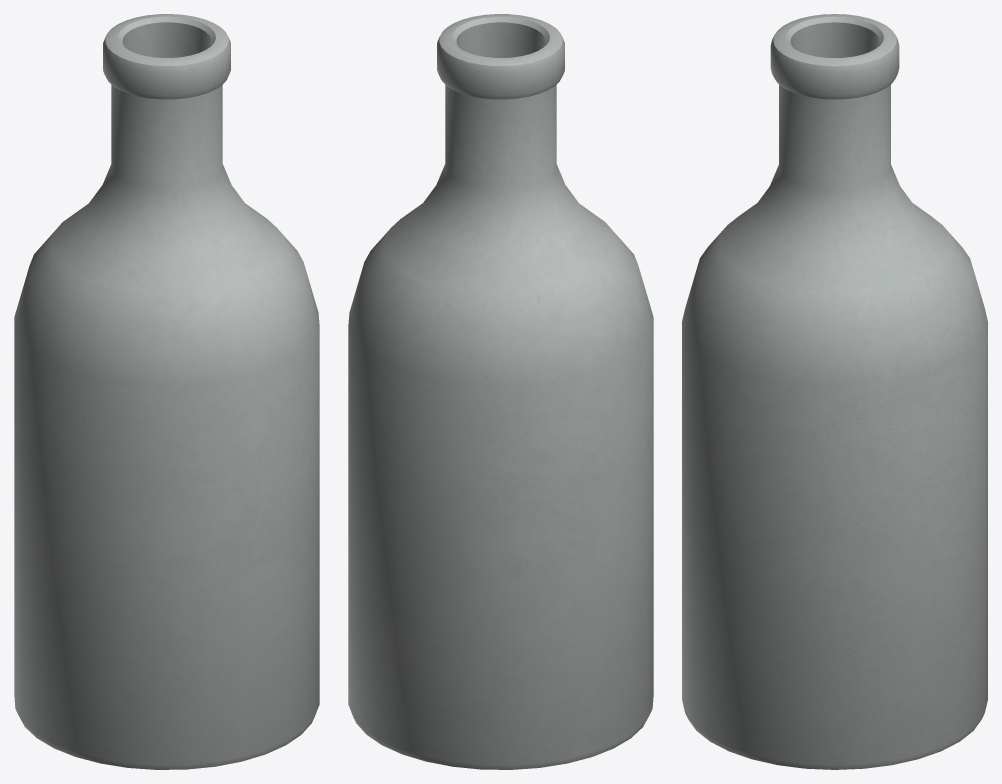
File: CeramicBottle2.fbx
3 views of the same model, side by side, from view 1: azimuth 30°, elevation 25°; view 2: azimuth 150°, elevation 25°; view 3: azimuth 270°, elevation 25° (orthographic).
Visible parts, largest first — view 1: Cylinder; view 2: Cylinder; view 3: Cylinder.
Boxes of the visible parts, left/top/right/bottom form: Cylinder: left=14, top=14, right=319, bottom=769; Cylinder: left=348, top=14, right=653, bottom=769; Cylinder: left=682, top=14, right=987, bottom=769.
Bounding box in the file's own units: 8.25 × 20 × 8.25.
